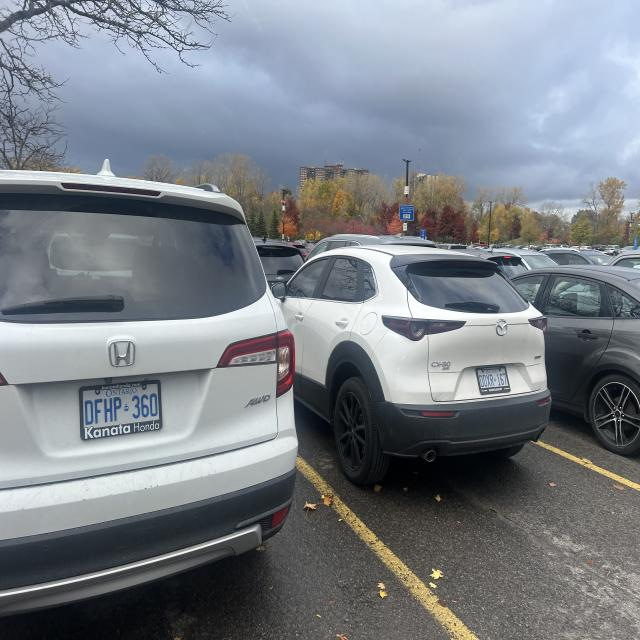plaque: (80, 381, 161, 439), (476, 367, 510, 394)
